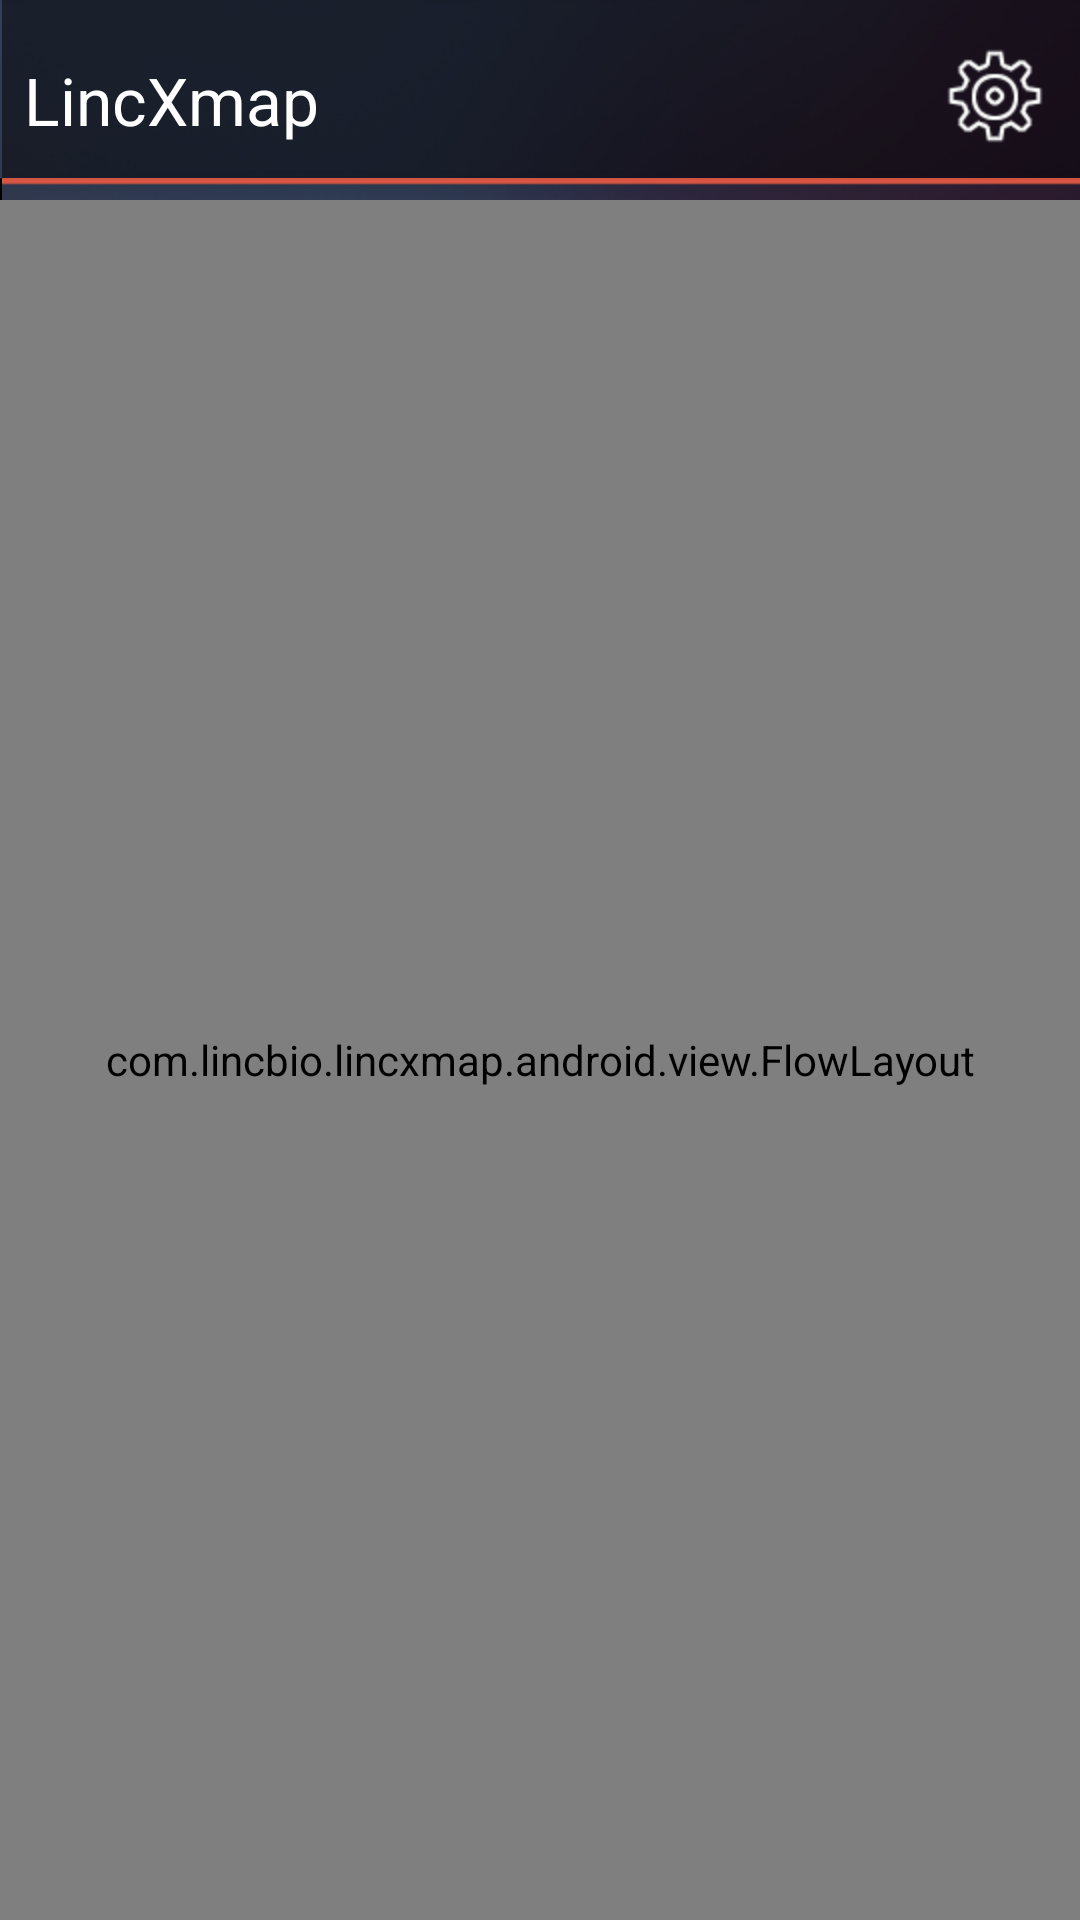

Screen size 1080px×1920px. Icon name, then its center in pixels as (x=x, y=y):
setting: (x=995, y=96)
